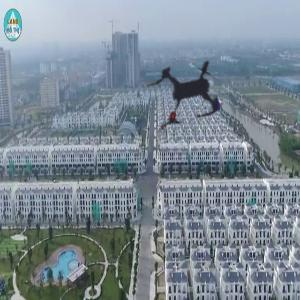drone: (106, 8, 270, 172)
